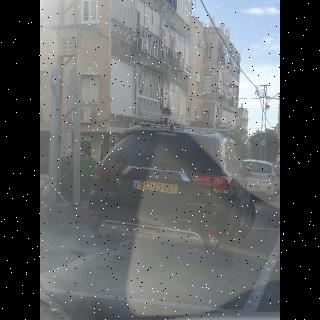LicensePlate: (137, 180, 178, 194)
